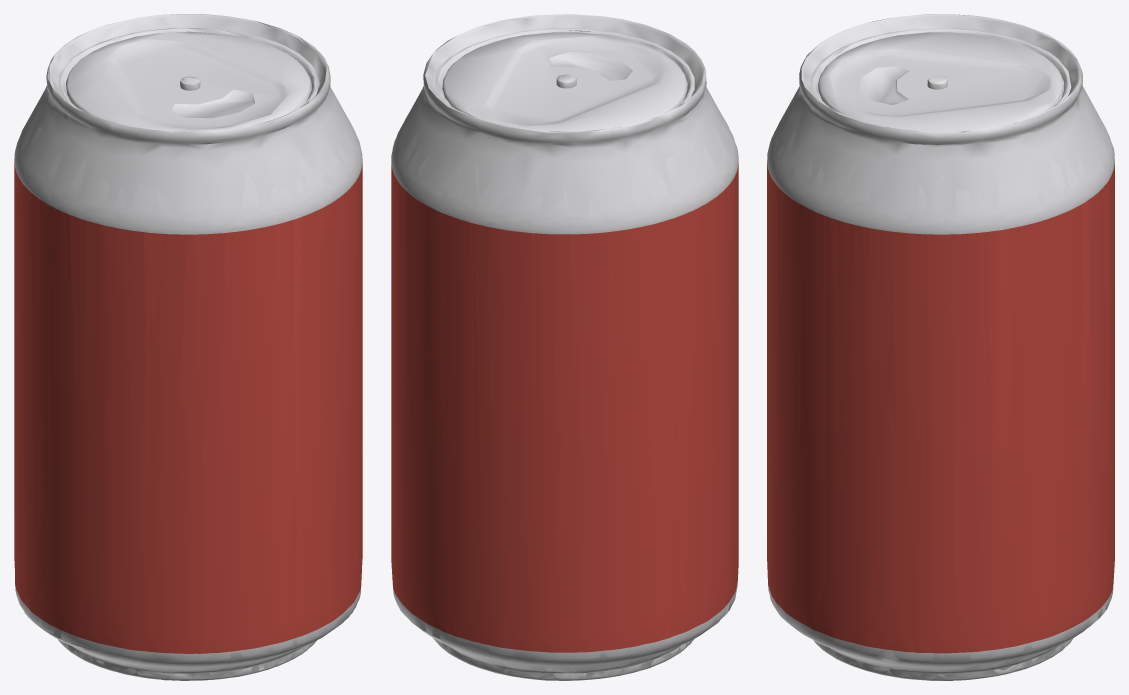
File: can.glb
3 views of the same model, side by side, from view 1: azimuth 30°, elevation 25°; view 2: azimuth 150°, elevation 25°; view 3: azimuth 270°, elevation 25° (orthographic).
Visible parts, largest first — view 1: can; view 2: can; view 3: can.
Boxes of the visible parts, x1,y1,x2,y2 form: can: (14, 14, 362, 680); can: (391, 14, 738, 680); can: (767, 14, 1114, 680).
Bounding box in the file's own units: 0.0697 × 0.122 × 0.0697.
